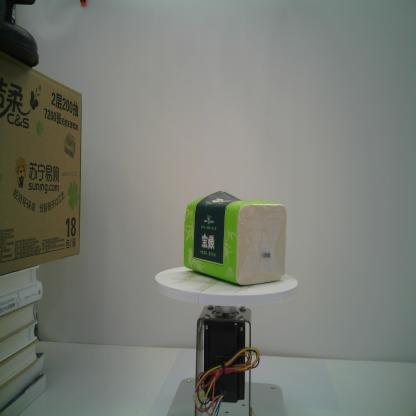Tissue: (182, 187, 287, 288)
